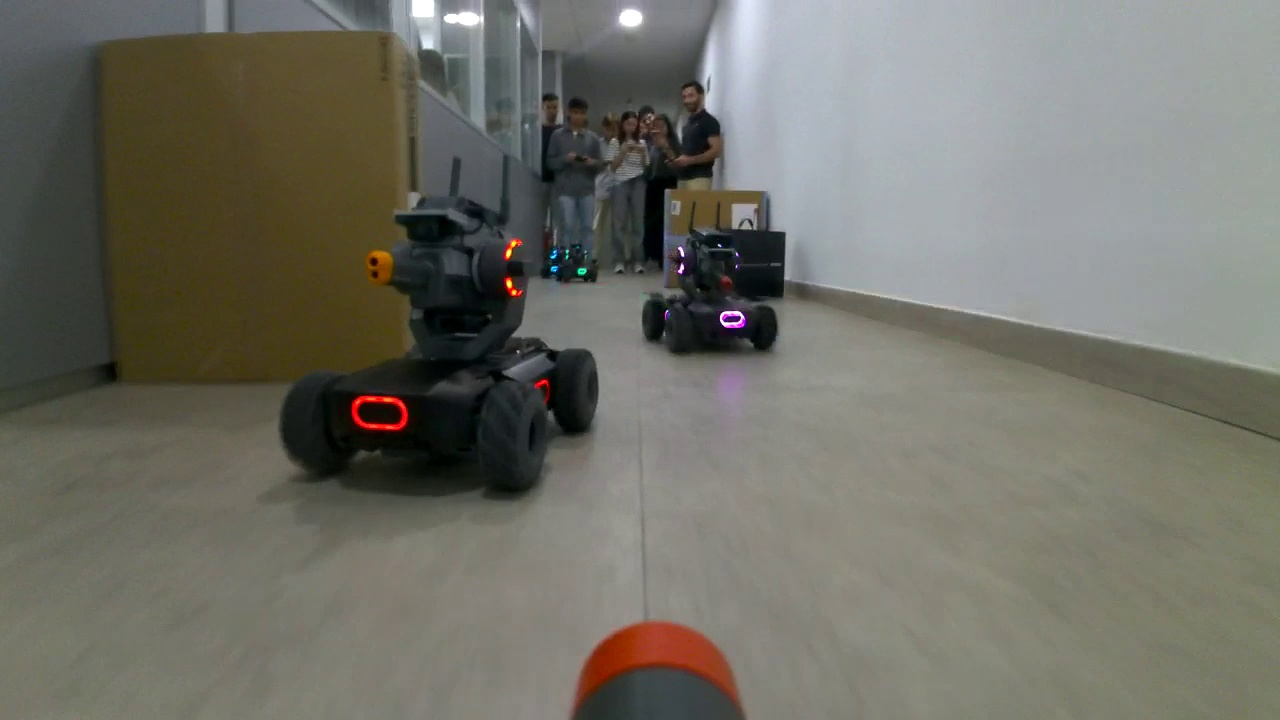robot: (276, 193, 602, 498), (639, 230, 782, 363)
